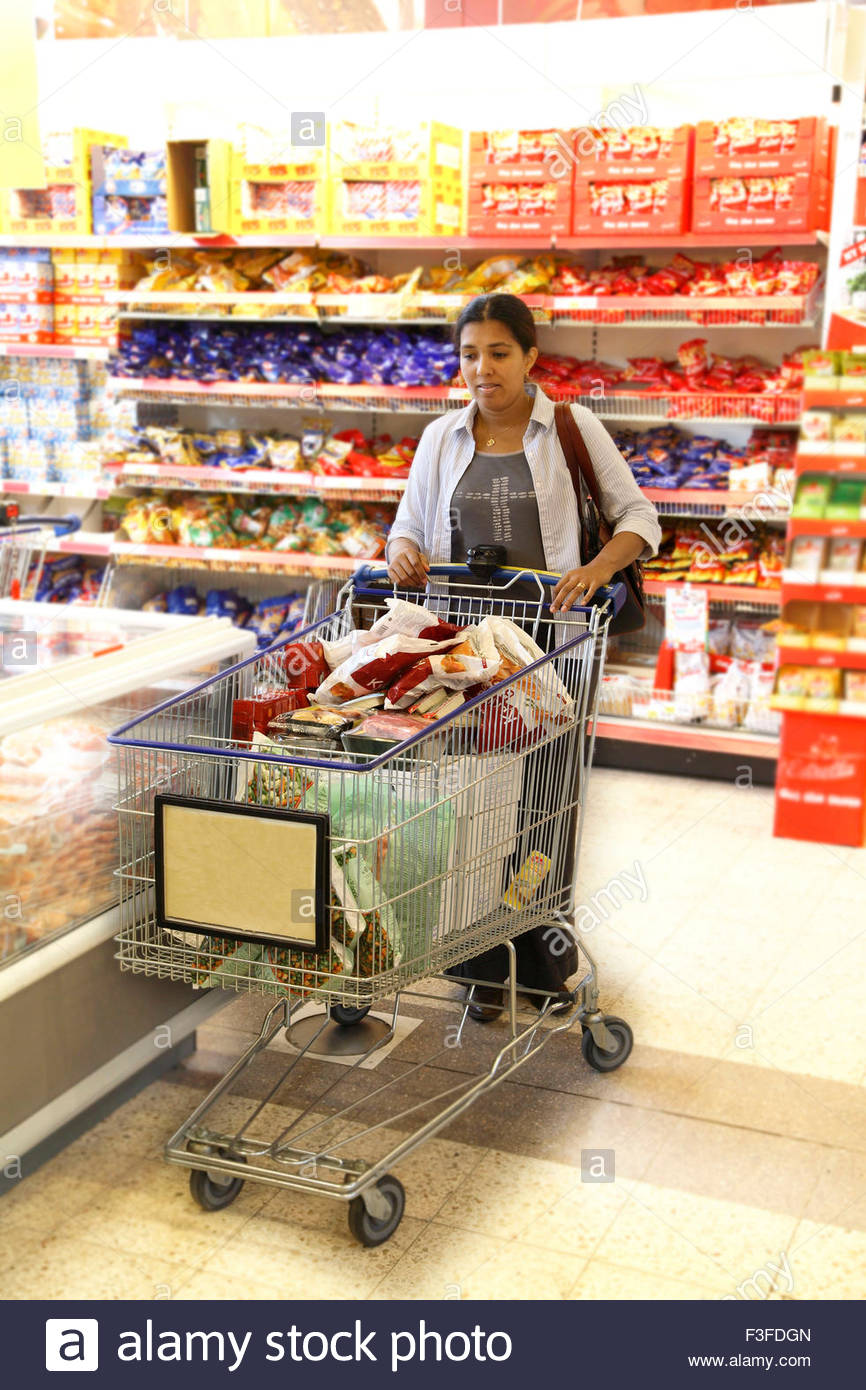Age_20_30: (462, 299, 538, 416)
E_Indian: (462, 299, 538, 416)
Emotion_Neutral: (462, 299, 538, 416)
G_ Female: (462, 299, 538, 416)
